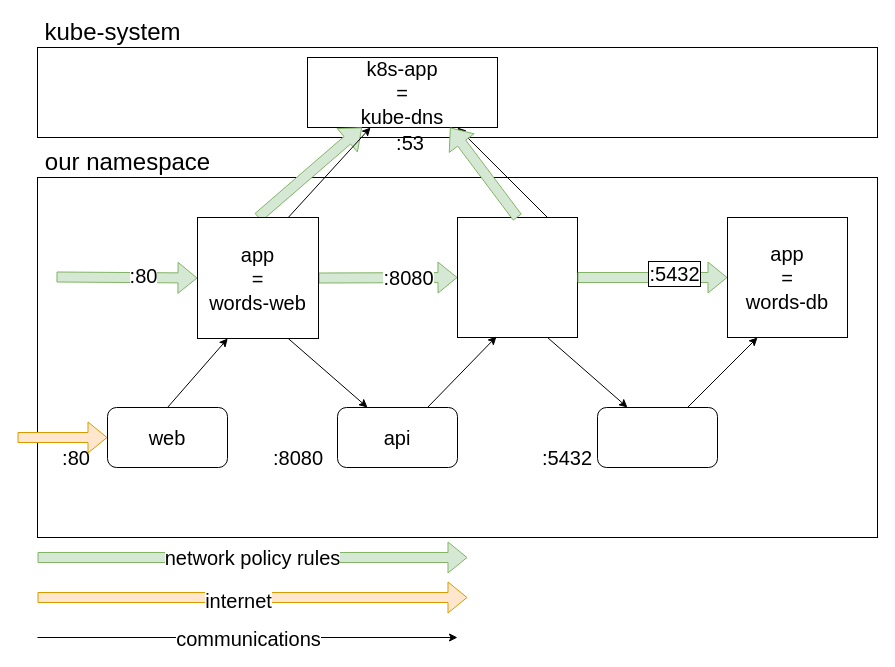
Image size: 895x667. Some labels were removed from this diagram. Each missing label, with the box of its shape:
app = words-api: (456, 216, 578, 338)
db: (596, 406, 718, 468)
